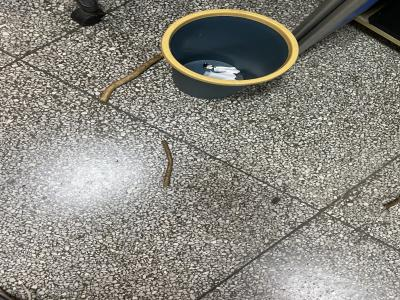Root: (99, 54, 163, 103), (162, 141, 173, 187)
